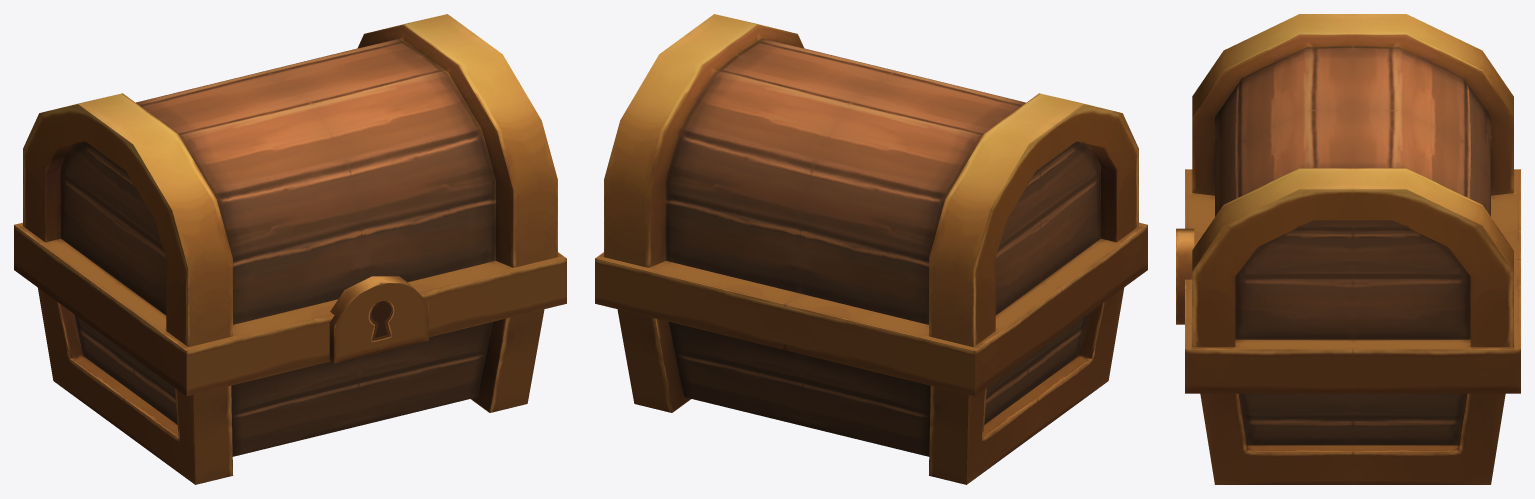
The model's file is 67_treasure chest.FBX.
The picture shows the model from 3 angles, left to right: view 1: azimuth 30°, elevation 25°; view 2: azimuth 150°, elevation 25°; view 3: azimuth 270°, elevation 25°; orthographic projection. The views are drawn at different scales.
Parts seen in each view (by area): view 1: Object026; view 2: Object026; view 3: Object026.
Part boxes in pixels (x1,y1,x2,y2): Object026: (14,14,566,484); Object026: (595,14,1147,484); Object026: (1176,14,1520,484).
Size of the model in its own units: 46.31 by 36.46 by 37.42.
